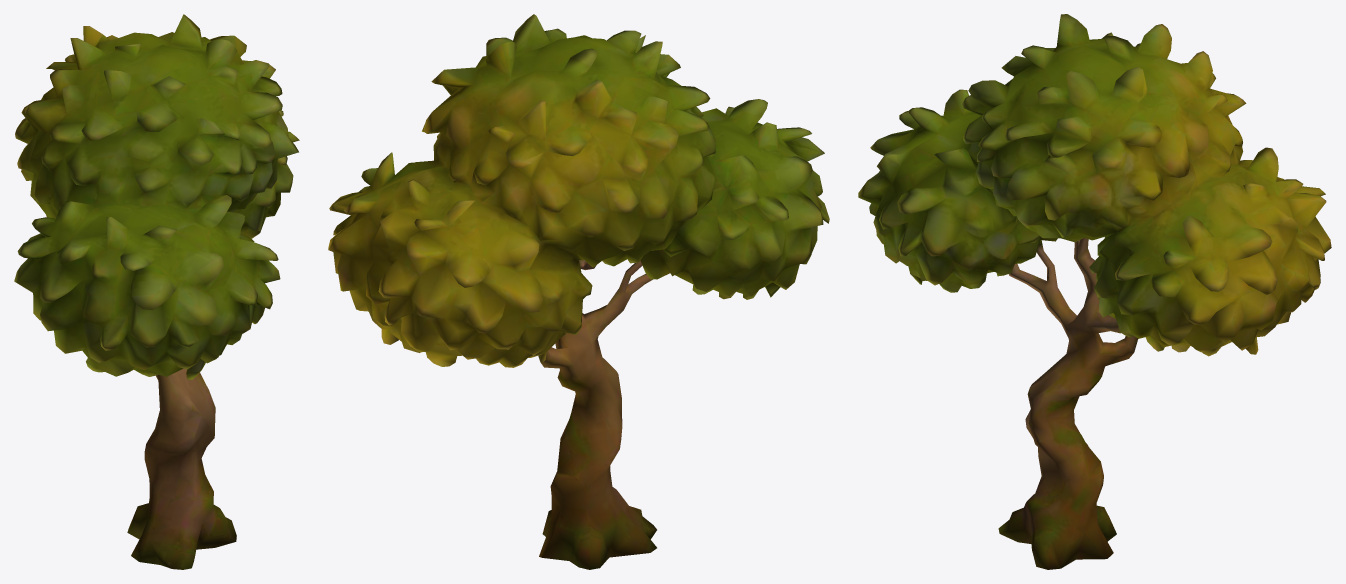
File: oak_5.glb
3 views of the same model, side by side, from view 1: azimuth 30°, elevation 25°; view 2: azimuth 150°, elevation 25°; view 3: azimuth 270°, elevation 25° (orthographic). The views are drawn at different scales.
Visible parts, largest first — view 1: tripo_node_c2756f30-2167-4c67-8bef-26b2ab6c85d8; view 2: tripo_node_c2756f30-2167-4c67-8bef-26b2ab6c85d8; view 3: tripo_node_c2756f30-2167-4c67-8bef-26b2ab6c85d8.
Boxes of the visible parts, bbox=[...] form: tripo_node_c2756f30-2167-4c67-8bef-26b2ab6c85d8: bbox=[14, 14, 299, 569]; tripo_node_c2756f30-2167-4c67-8bef-26b2ab6c85d8: bbox=[328, 14, 829, 569]; tripo_node_c2756f30-2167-4c67-8bef-26b2ab6c85d8: bbox=[858, 14, 1331, 569].
Bounding box in the file's own units: 5.19 × 7 × 6.01.
1 material, 1 textured.
